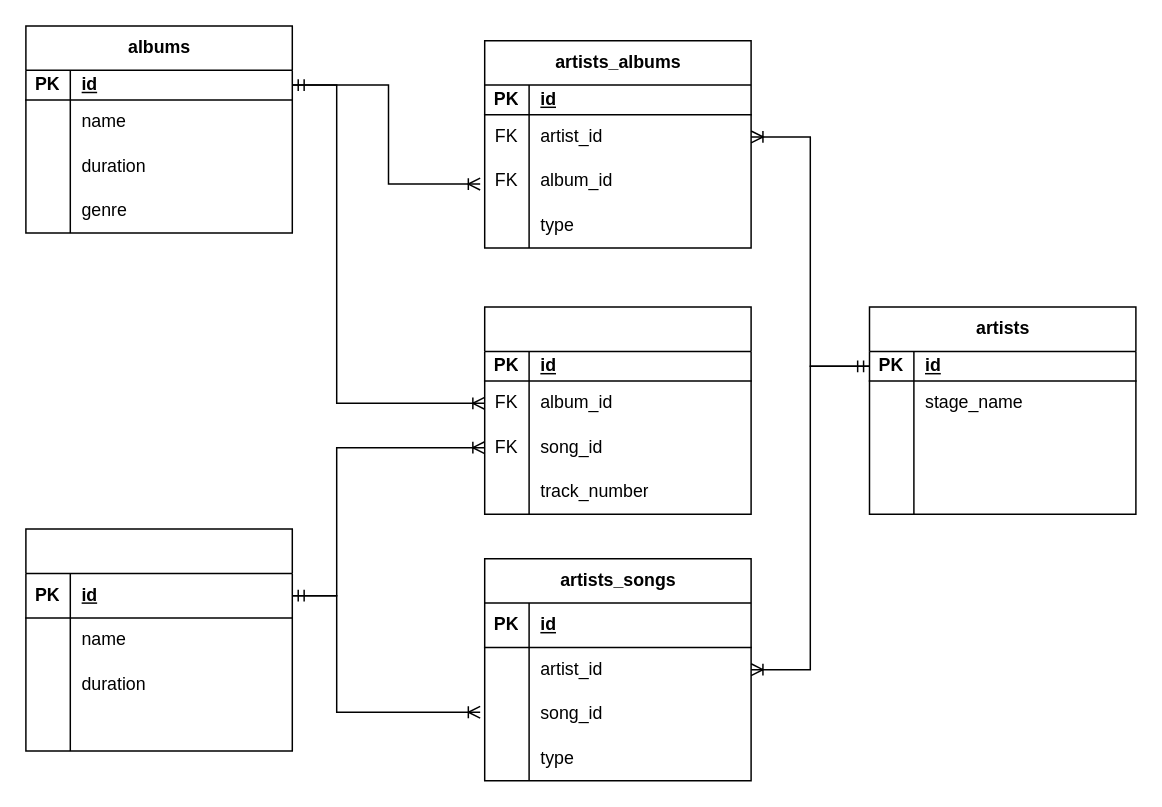
The diagram is 1162 pixels wide and 807 high, and some of its shapes have lost their labels. The shapes that lost their labels are listed below. From the top down, each one's box as (x1, y1, x2, y2) in pixels, then its label:
(483, 306, 751, 514): albums_songs
(24, 528, 292, 751): songs
